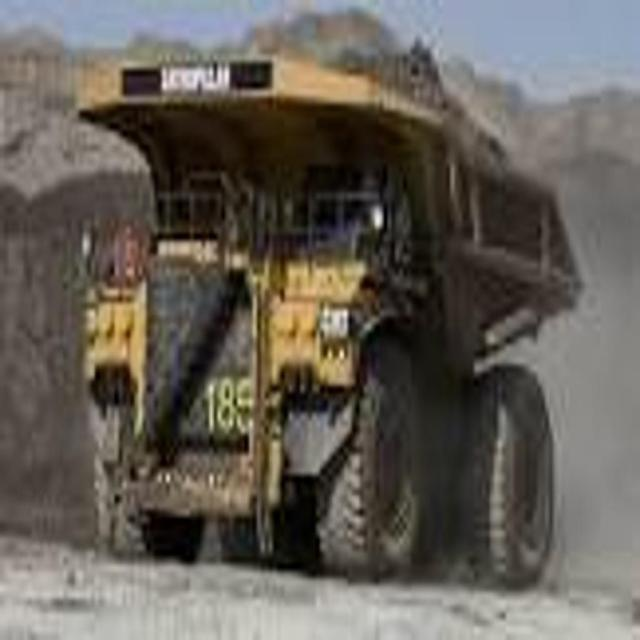dump_truck: (72, 34, 584, 600)
